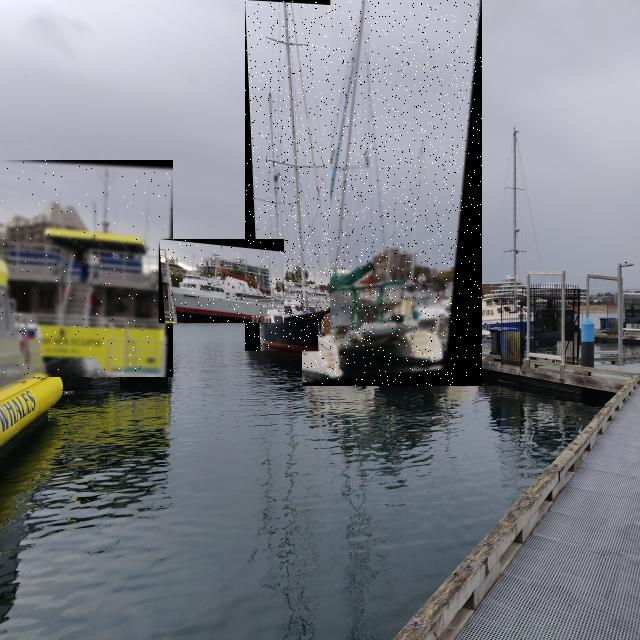boat: (302, 0, 482, 386), (0, 160, 173, 377), (245, 0, 330, 351), (159, 239, 284, 323)
debris: (60, 390, 75, 396)
